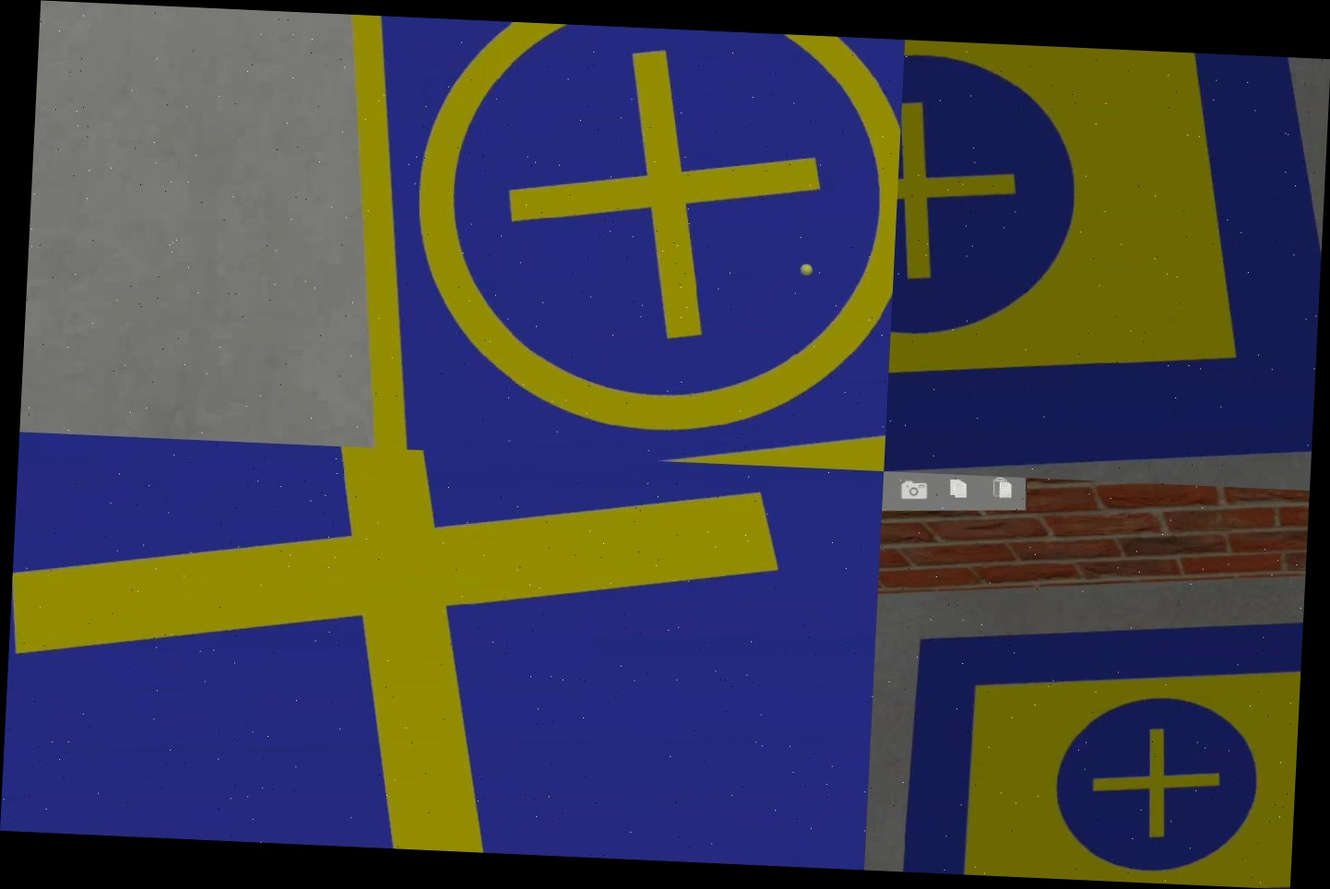large_base: (884, 40, 1330, 491), (880, 594, 1302, 889)
small_base: (0, 432, 884, 870), (314, 14, 905, 471)
